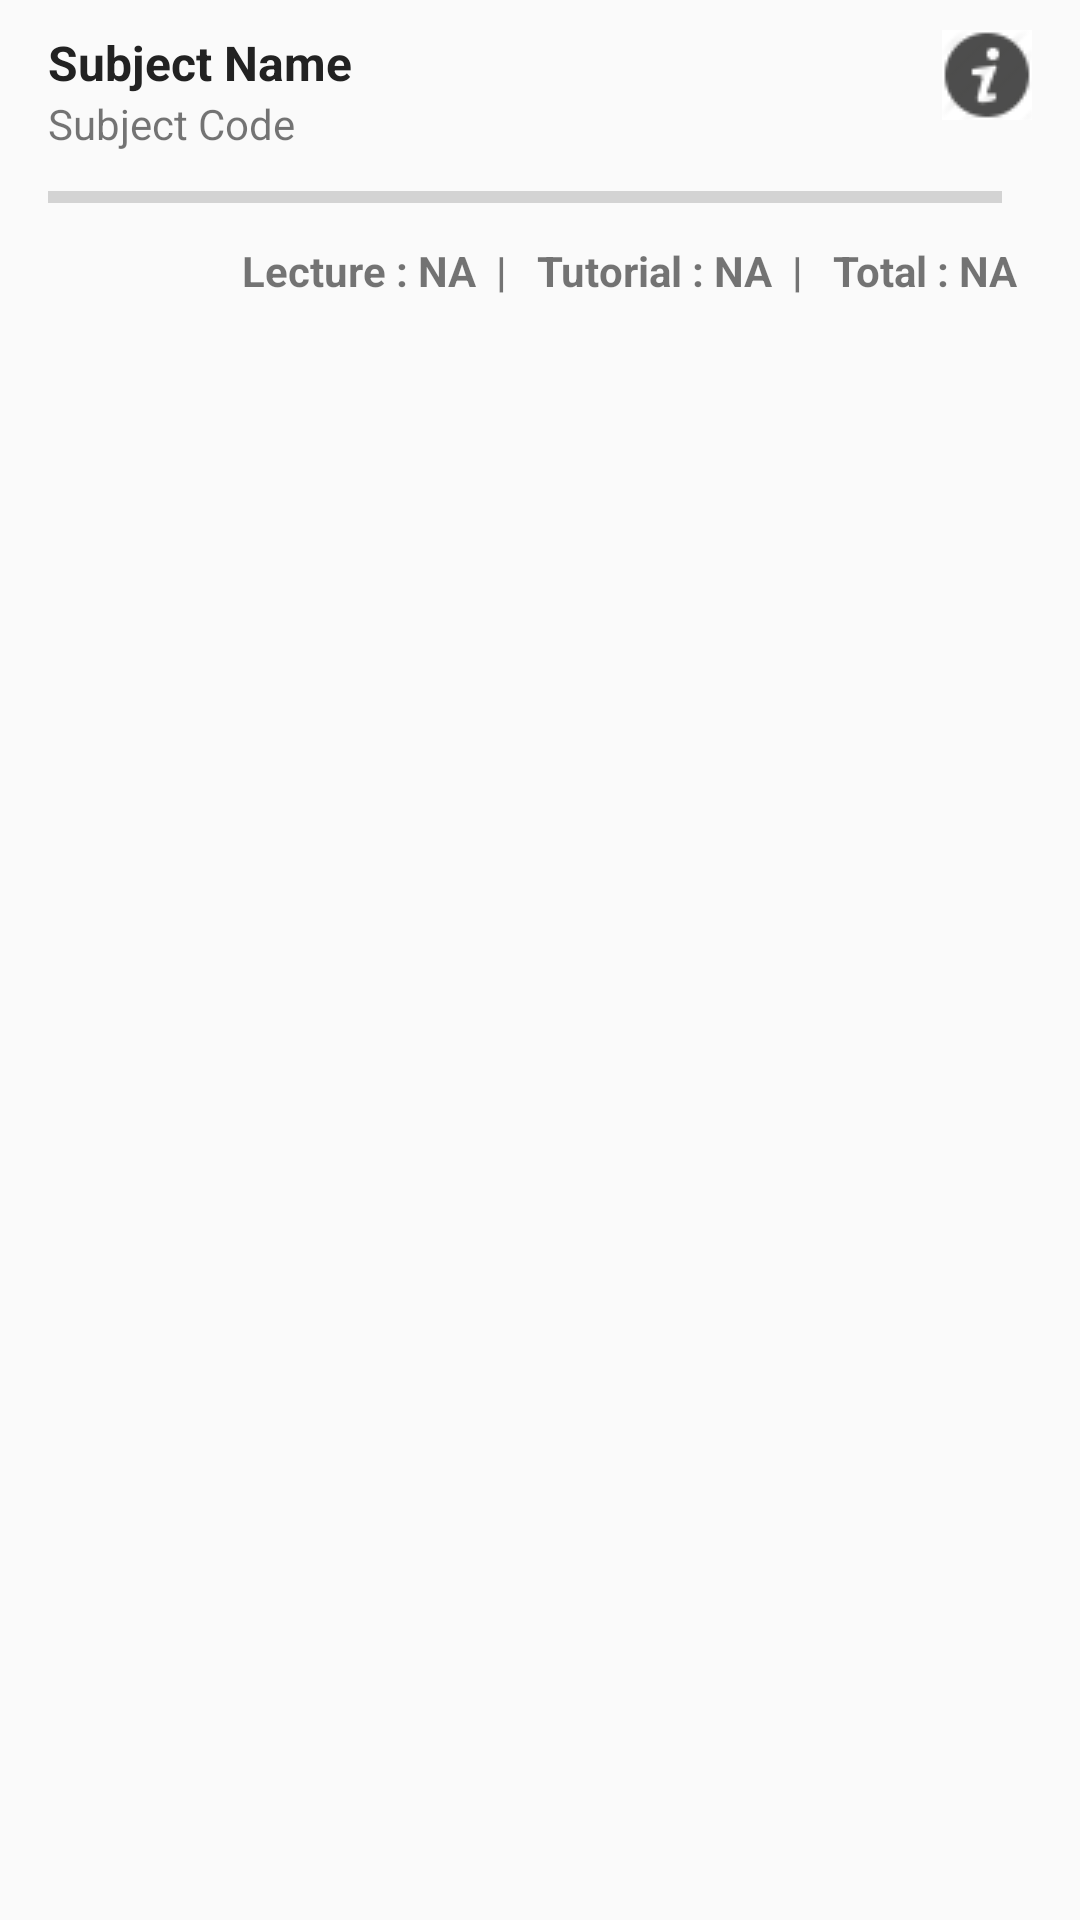

Point at icon controls on the screen. Image size 1080x1920, points as point (x, y).
info: point (987, 75)
